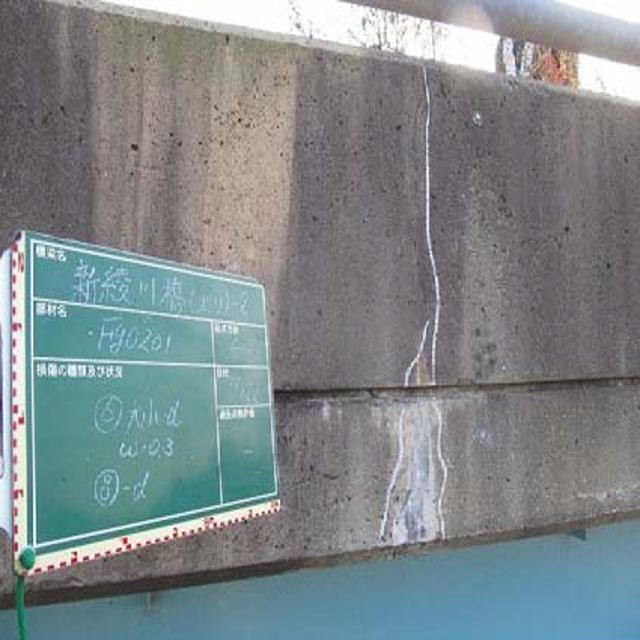freelime: (387, 349, 453, 547)
